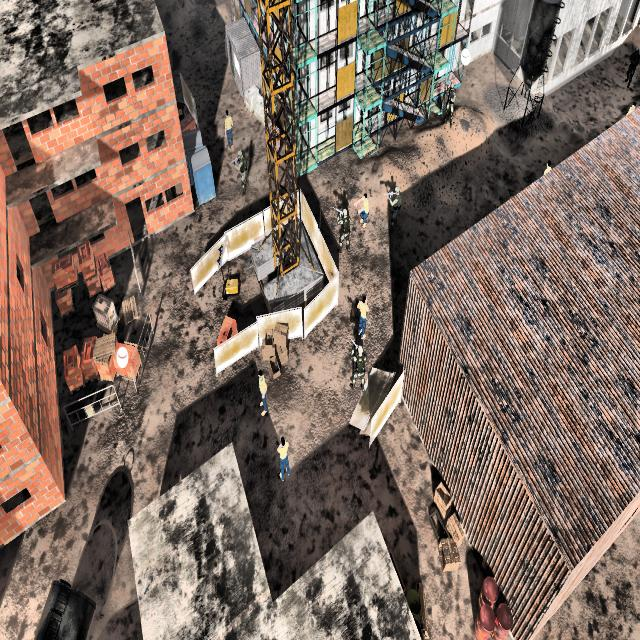bad: (342, 335, 367, 398), (384, 171, 403, 239), (231, 145, 253, 199), (333, 205, 353, 260), (440, 75, 459, 131), (622, 32, 640, 91)
good: (251, 360, 271, 428), (355, 276, 370, 342), (276, 428, 292, 488), (222, 106, 238, 156), (355, 185, 369, 239), (540, 153, 552, 179), (624, 98, 634, 116)
